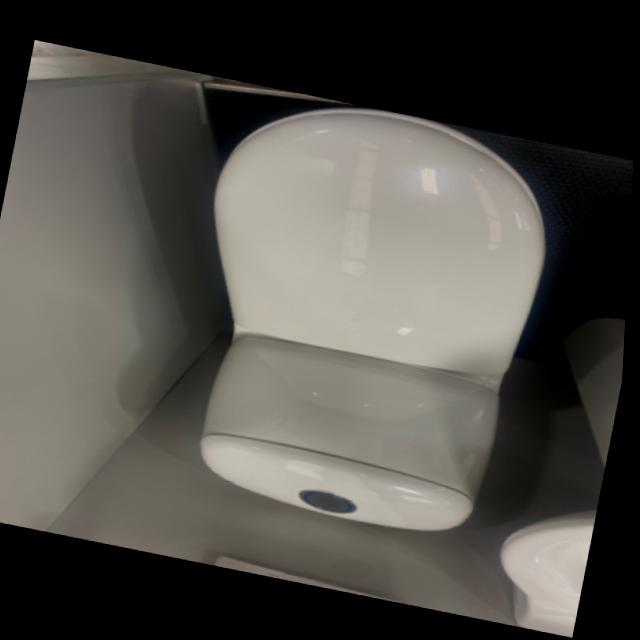toilet: (162, 77, 571, 546)
